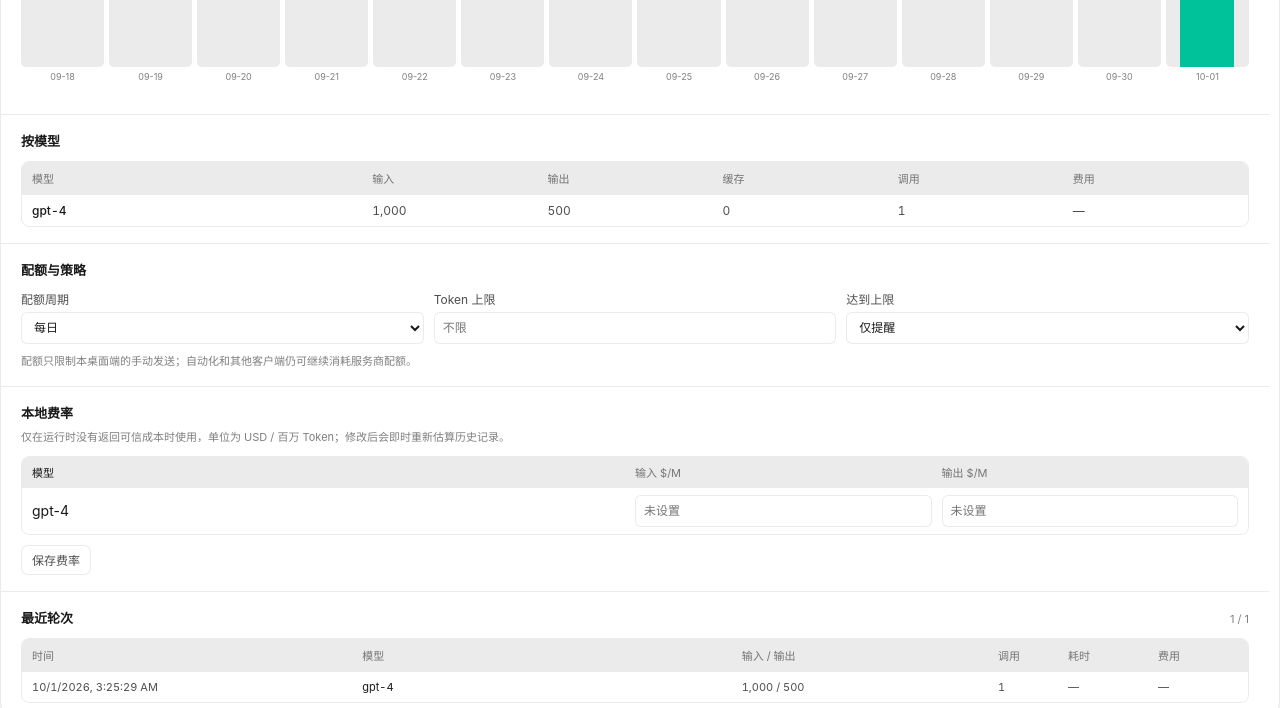
UsageQuotaPanel › 可配置本地模型费率
The width and height of the screenshot is (1280, 708).
(page scrolled)
Step 1. Type "30" into the number field named "gpt-4 输入费率" → (783, 511), box [635,495,932,527]
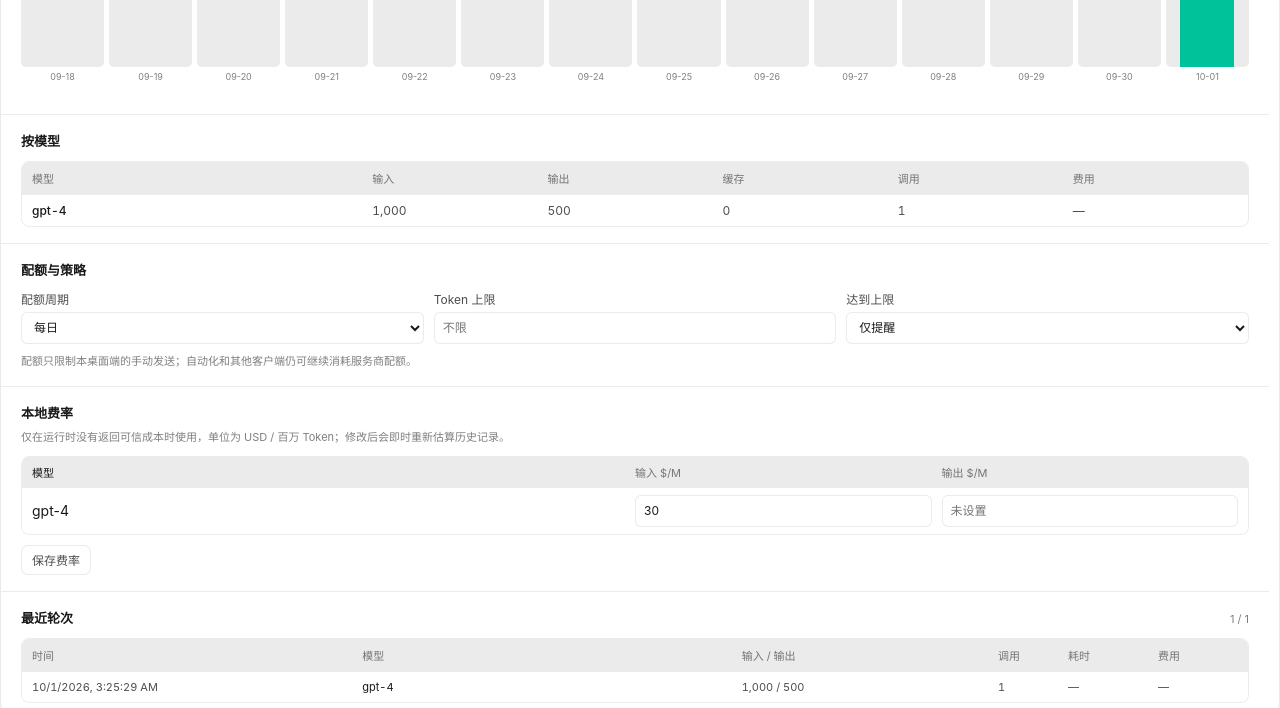
Step 2. Type "60" into the number field named "gpt-4 输出费率" → (1090, 511), box [942,495,1238,527]
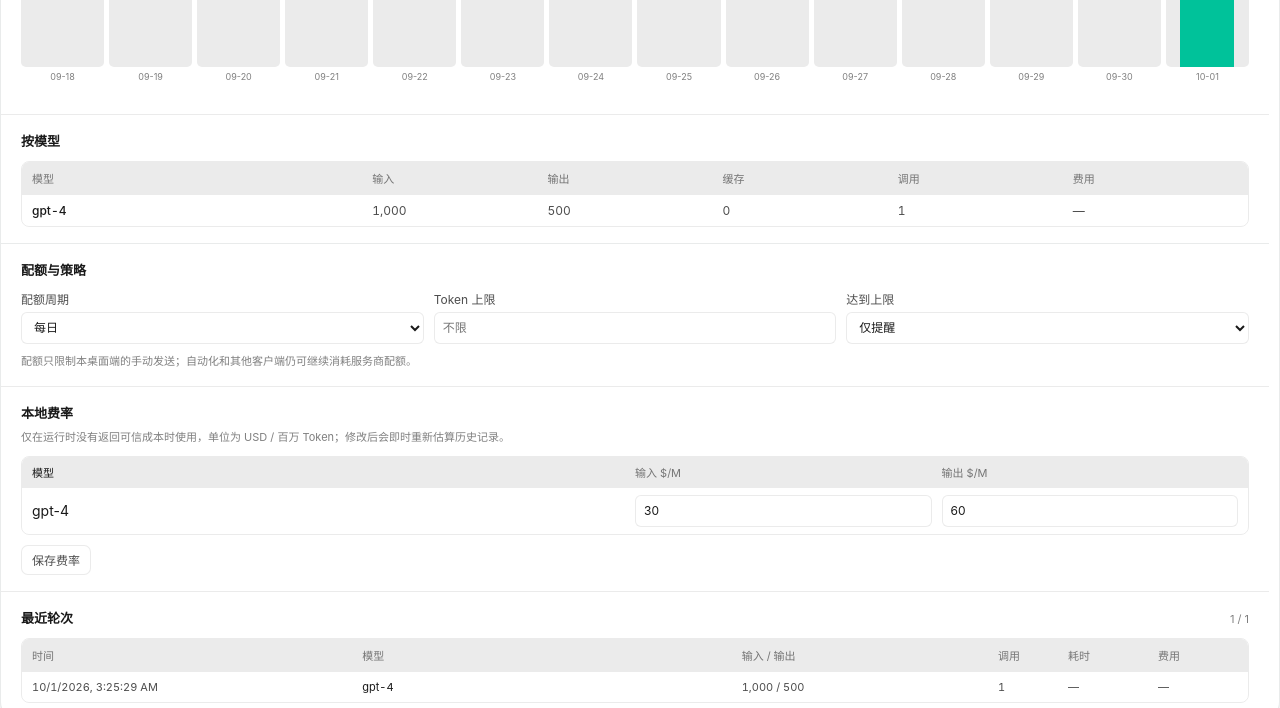
Step 3. Click the button "保存费率" → (56, 560), box [21,545,91,575]
(page scrolled)
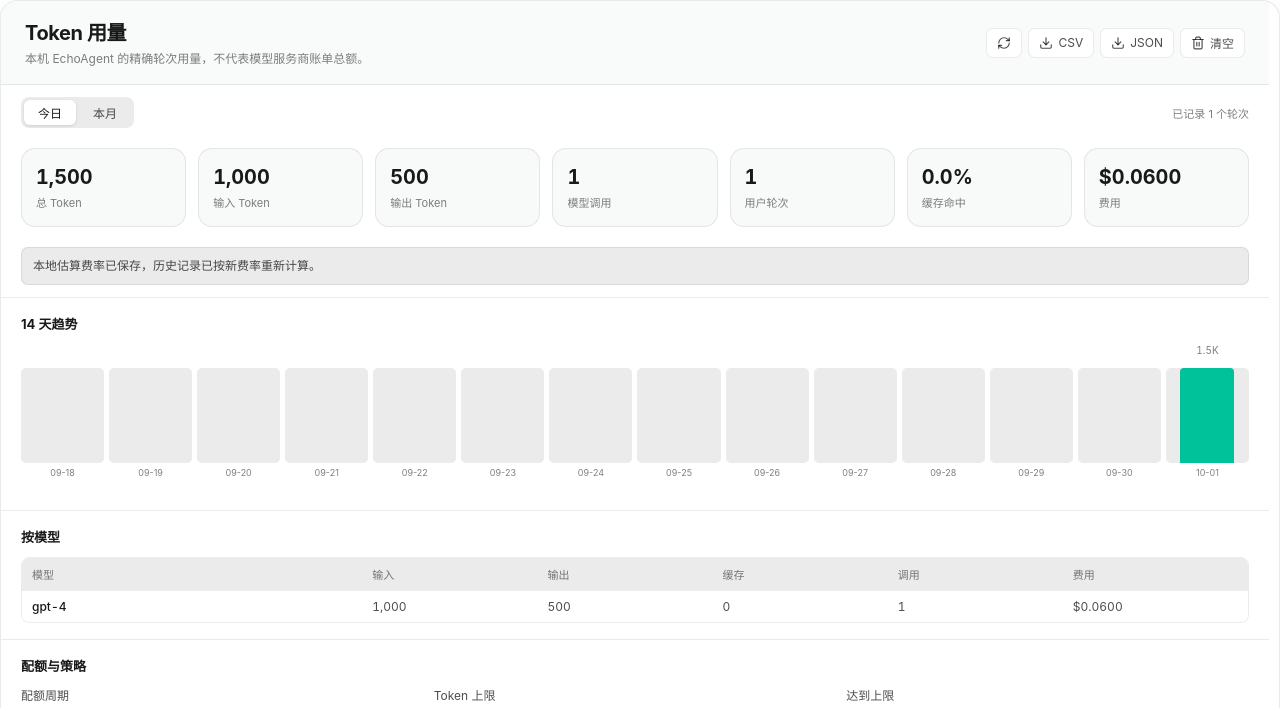
Now the text "本地估算费率已保存，历史记录已按新费率重新计算。" is shown, box [21,247,1249,285]
Now the text "$0.0600" in the row of "1,500" is shown, box [1099,165,1181,189]
